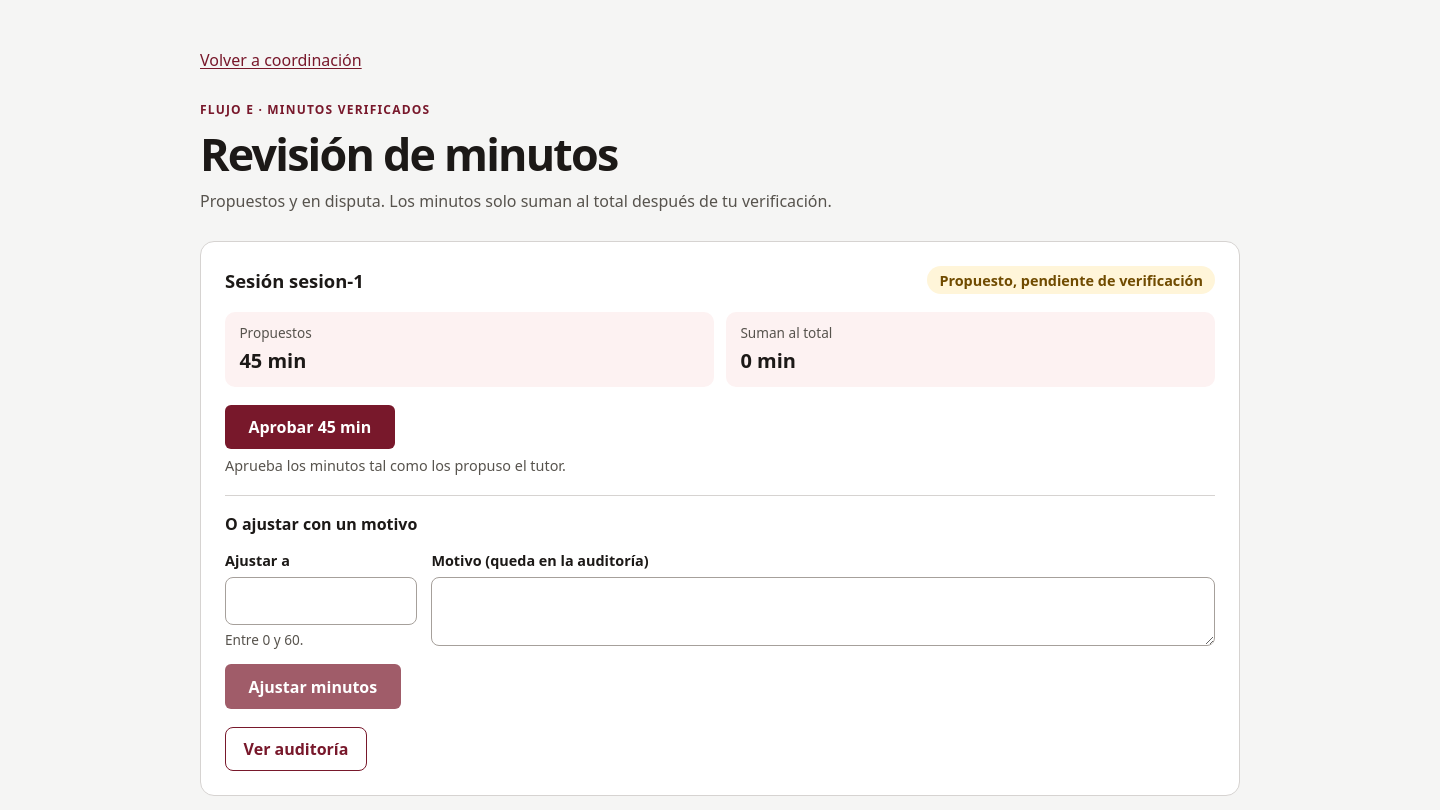
I17: bandeja de revisión de coordinación › aprueba de forma explícita y recarga la bandeja
Click the button "Aprobar 45 min": (310, 427) [225,405,395,450]
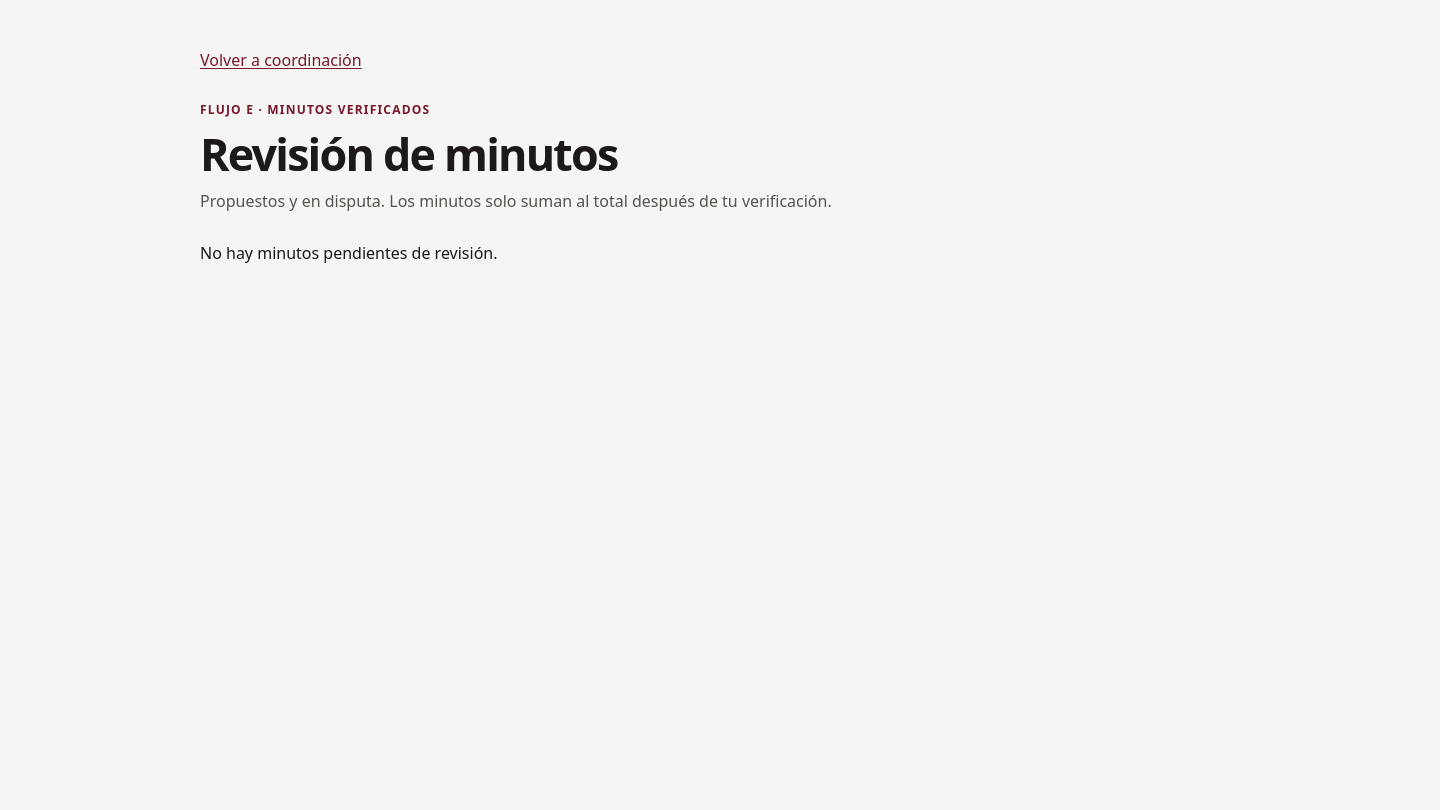
Now the text "No hay minutos pendientes de revisión." is shown, box [200,242,498,264]
